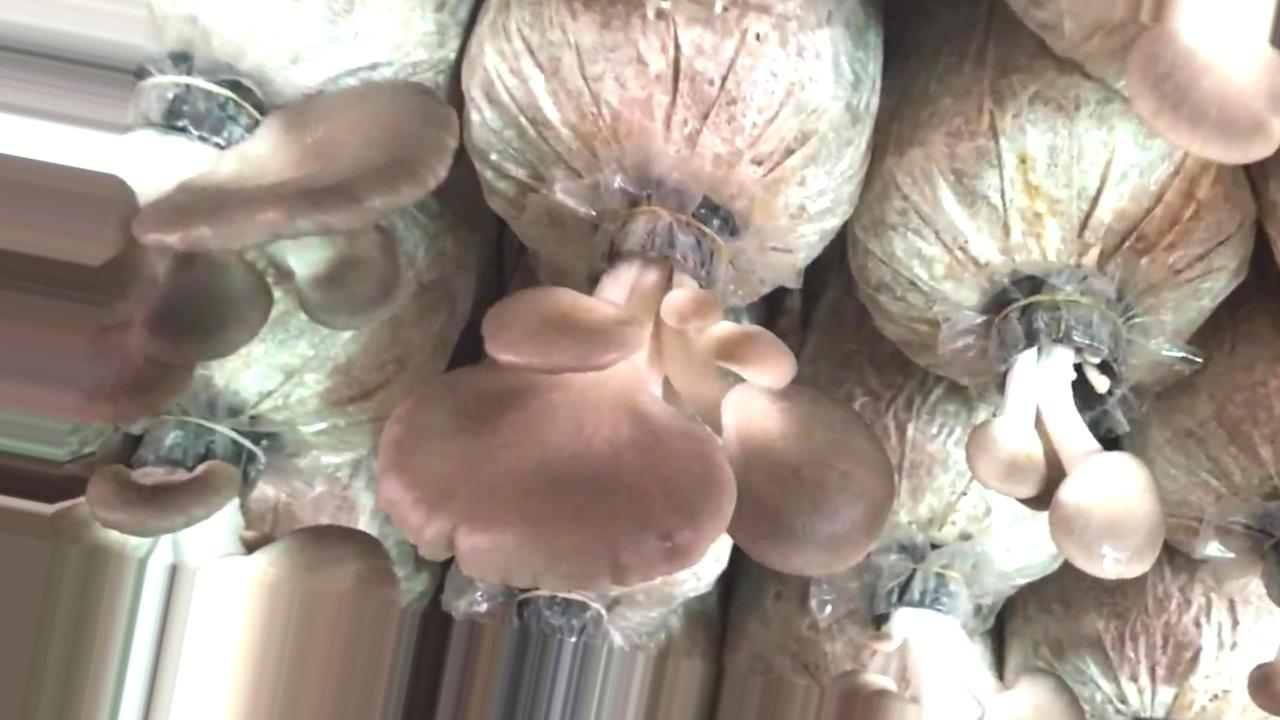nam: (382, 191, 895, 592), (1, 59, 453, 419), (1, 418, 396, 719), (974, 300, 1168, 577), (826, 562, 1078, 720), (1131, 1, 1279, 167)
